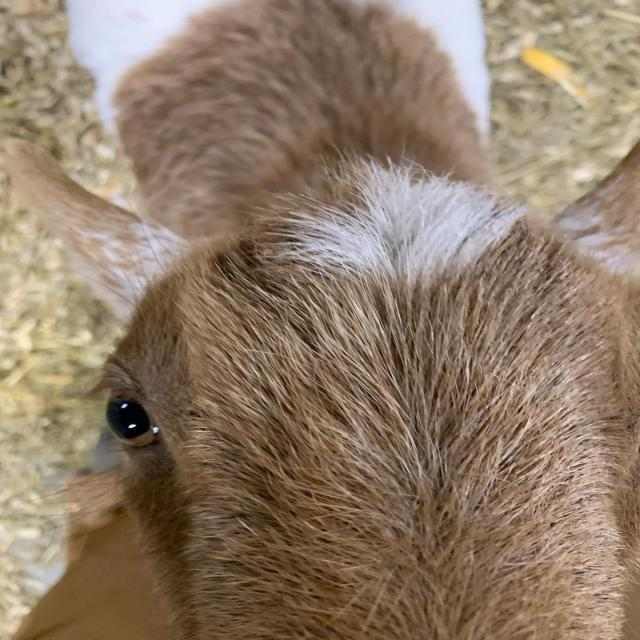goat: (2, 115, 640, 640)
